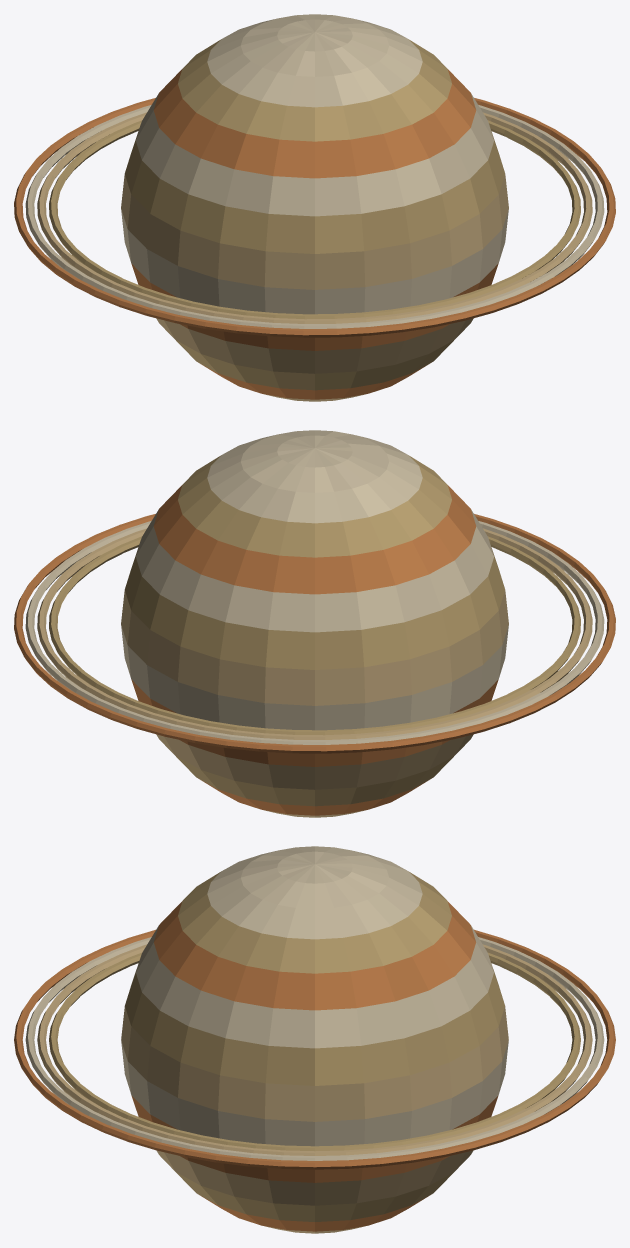
The model's file is space-planet-gas.lod0.glb.
The picture shows the model from 3 angles, top to bottom: view 1: azimuth 30°, elevation 25°; view 2: azimuth 150°, elevation 25°; view 3: azimuth 270°, elevation 25°; orthographic projection.
Visible parts, largest first — view 1: space-planet-gas__body; view 2: space-planet-gas__body; view 3: space-planet-gas__body.
Boxes of the visible parts, x1,y1,x2,y2 form: space-planet-gas__body: (14,14,615,401); space-planet-gas__body: (14,430,615,817); space-planet-gas__body: (14,846,615,1233).
Size of the model in its own units: 6.21 by 4 by 6.21.
